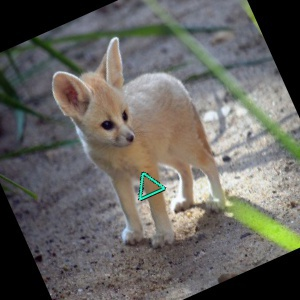triangle: (137, 170, 167, 201)
